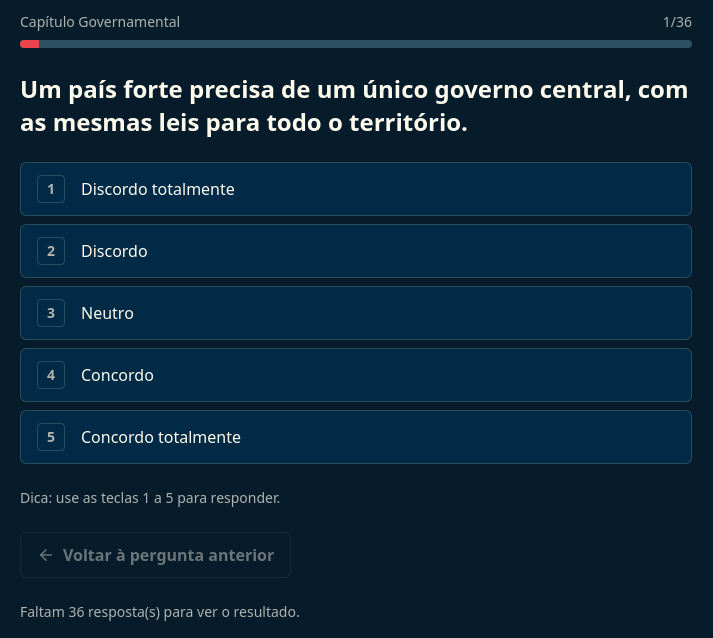
Test: Quiz › clicar numa resposta avança para a próxima pergunta
Click the radio button labelled "5 Concordo totalmente" at [161, 437], box top-left (20, 410), bottom-right (692, 464)
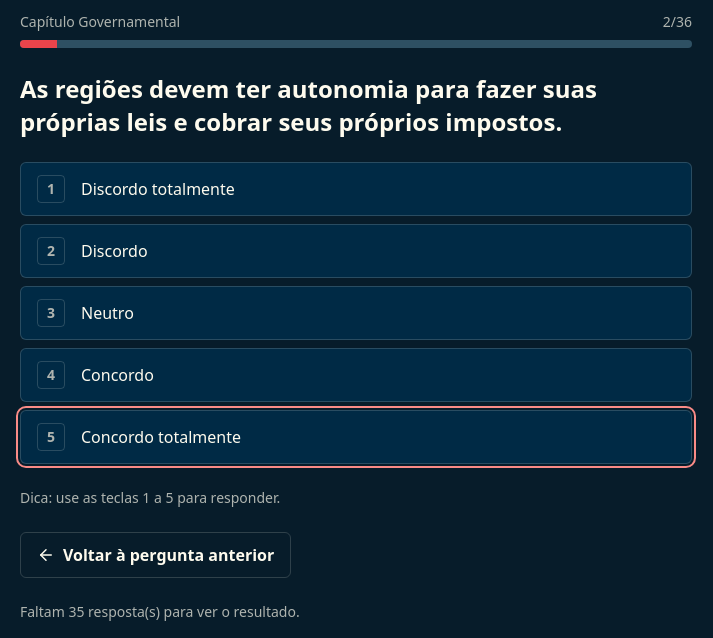
Result: the text "2/36" is shown at top-left (663, 12), bottom-right (692, 32)
Result: the heading named "As regiões devem ter autonomia para fazer suas próprias leis e cobrar seus próprios impostos." is shown at top-left (20, 72), bottom-right (692, 138)
